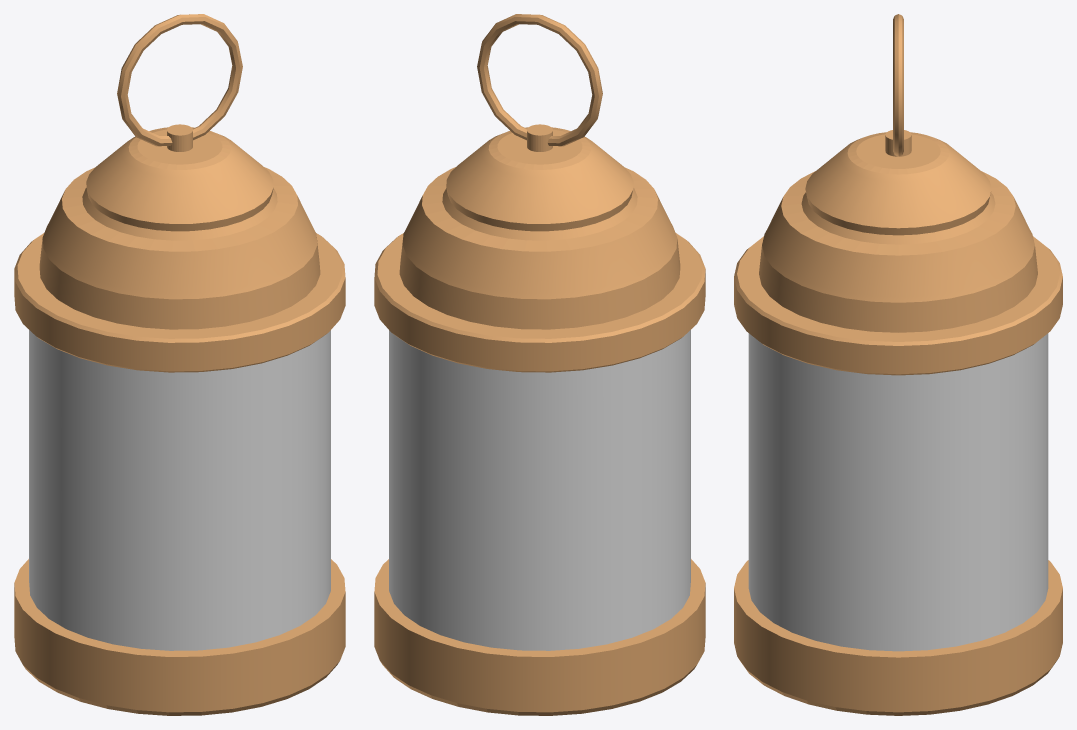
The model's file is lamp.fbx.
3 views of the same model, side by side, from view 1: azimuth 30°, elevation 25°; view 2: azimuth 150°, elevation 25°; view 3: azimuth 270°, elevation 25° (orthographic).
Parts seen in each view (by area): view 1: Lamp; view 2: Lamp; view 3: Lamp.
Part boxes in pixels (left/top/right/bottom): Lamp: left=14, top=14, right=345, bottom=715; Lamp: left=374, top=14, right=705, bottom=715; Lamp: left=734, top=14, right=1062, bottom=715.
Size of the model in its own units: 241 by 507 by 241.
